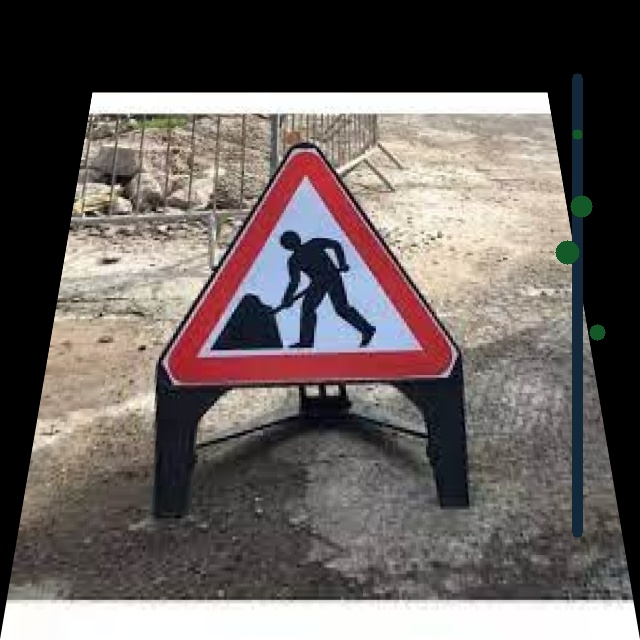Men_at_Work: (155, 140, 462, 380)
